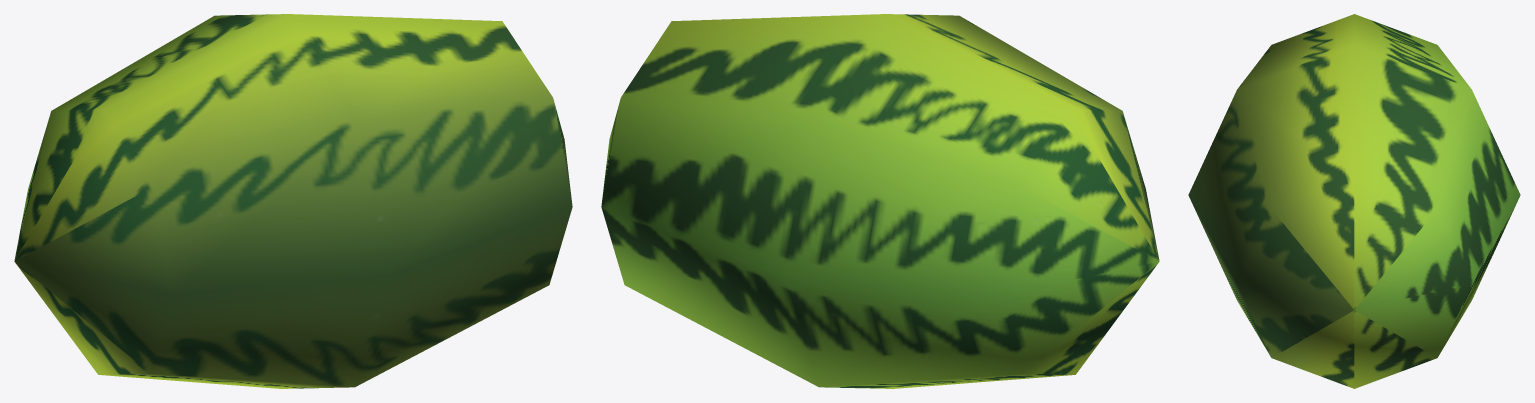
The model's file is WaterMelon.FBX.
The picture shows the model from 3 angles, left to right: view 1: azimuth 30°, elevation 25°; view 2: azimuth 150°, elevation 25°; view 3: azimuth 270°, elevation 25°; orthographic projection. The views are drawn at different scales.
Parts seen in each view (by area): view 1: Water Melon; view 2: Water Melon; view 3: Water Melon.
Boxes of the visible parts, x1,y1,x2,y2 form: Water Melon: (14,14,572,388); Water Melon: (601,14,1159,388); Water Melon: (1188,14,1520,388).
Bounding box in the file's own units: 31.99 × 20.73 × 20.74.
